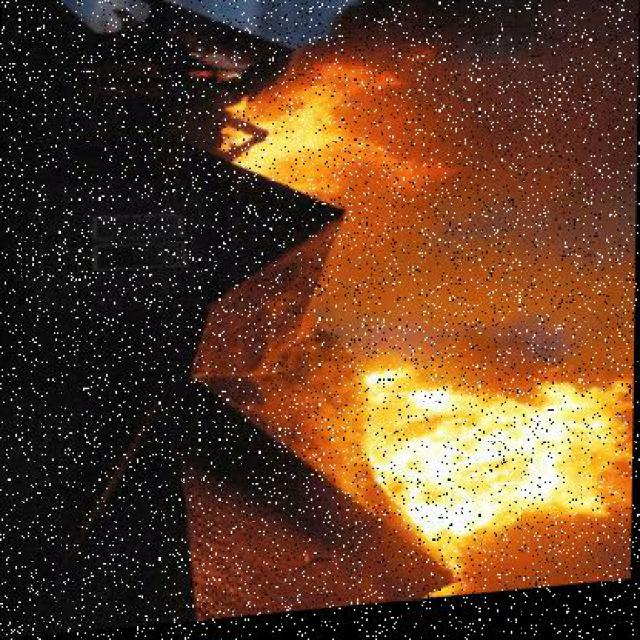fire: (367, 342, 635, 579), (207, 30, 467, 238)
